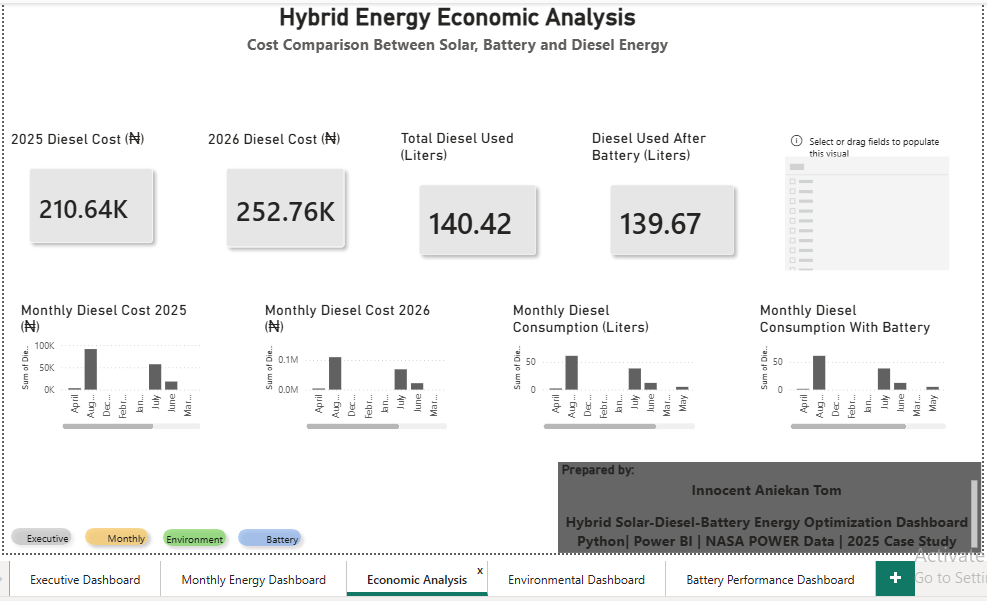

Layout of this report page (visuals, bound fields, positions):
{"tool":"powerbi","page":{"name":"Economic Analysis","canvas":[1280,720],"ordinal":2},"visuals":[{"type":"slicer","box":[1023,164.6,215,184.8],"z":0},{"type":"textbox","title":"Hybrid Energy Economic Analysis","box":[231.8,0,724,137.7],"z":1000},{"type":"cardVisual","title":"2025 Diesel Cost (₦)","fields":{"Data":["Sum(Hybrid_Energy_Results.Diesel_Cost_2025)"]},"box":[3.4,164.6,220.1,178.1],"z":2000},{"type":"cardVisual","title":"2026 Diesel Cost (₦)","fields":{"Data":["Sum(Hybrid_Energy_Results.Diesel_Cost_2026)"]},"box":[262,164.6,213.3,184.8],"z":3000},{"type":"cardVisual","title":"Total Diesel Used (Liters)","fields":{"Data":["Sum(Hybrid_Energy_Results.Diesel_Liters)"]},"box":[514,164.6,211.7,194.9],"z":4000},{"type":"cardVisual","title":"Diesel Used After Battery (Liters)","fields":{"Data":["Sum(Hybrid_Energy_Results.Diesel_Liters_Battery)"]},"box":[764.3,164.6,220.1,194.9],"z":5000},{"type":"clusteredColumnChart","title":"Monthly Diesel Cost 2025 (₦)","fields":{"Category":["Hybrid_Energy_Results.Month"],"Y":["Sum(Hybrid_Energy_Results.Diesel_Cost_2025)"]},"box":[16.8,389.7,245.2,173],"z":6000},{"type":"clusteredColumnChart","title":"Monthly Diesel Cost 2026 (₦)","fields":{"Category":["Hybrid_Energy_Results.Month"],"Y":["Sum(Hybrid_Energy_Results.Diesel_Cost_2026)"]},"box":[337.1,389.7,248.6,173],"z":7000},{"type":"clusteredColumnChart","title":"Monthly Diesel Consumption (Liters)","fields":{"Category":["Hybrid_Energy_Results.Month"],"Y":["Sum(Hybrid_Energy_Results.Diesel_Liters)"]},"box":[660.7,389.7,248.6,173],"z":8000},{"type":"clusteredColumnChart","title":"Monthly Diesel Consumption With Battery","fields":{"Category":["Hybrid_Energy_Results.Month"],"Y":["Sum(Hybrid_Energy_Results.Diesel_Liters_Battery)"]},"box":[984.4,389.7,253.6,173],"z":9000},{"type":"actionButton","box":[97.4,678.6,100.8,40.3],"z":10000},{"type":"actionButton","box":[0,678.6,97.4,40.3],"z":11000},{"type":"actionButton","box":[198.8,679.1,100.8,40.3],"z":12000},{"type":"actionButton","box":[297.3,679.1,100.8,40.3],"z":13000},{"type":"textbox","title":"Prepared by: ","box":[725.7,601.4,554.3,119.3],"z":14000}]}

Visuals, with their boxes on the page's 1280x720 design canvas (x1, y1, x2, y2). These are canvas units, not pixel positions in the 987x601 screenshot, which may show the page scaled, cropped or inside an application window:
slicer: pyautogui.locateOnScreen(1023, 165, 1238, 349)
"Hybrid Energy Economic Analysis" textbox: pyautogui.locateOnScreen(232, 0, 956, 138)
"2025 Diesel Cost (₦)" cardVisual: pyautogui.locateOnScreen(3, 165, 224, 343)
"2026 Diesel Cost (₦)" cardVisual: pyautogui.locateOnScreen(262, 165, 475, 349)
"Total Diesel Used (Liters)" cardVisual: pyautogui.locateOnScreen(514, 165, 726, 360)
"Diesel Used After Battery (Liters)" cardVisual: pyautogui.locateOnScreen(764, 165, 984, 360)
"Monthly Diesel Cost 2025 (₦)" clusteredColumnChart: pyautogui.locateOnScreen(17, 390, 262, 563)
"Monthly Diesel Cost 2026 (₦)" clusteredColumnChart: pyautogui.locateOnScreen(337, 390, 586, 563)
"Monthly Diesel Consumption (Liters)" clusteredColumnChart: pyautogui.locateOnScreen(661, 390, 909, 563)
"Monthly Diesel Consumption With Battery" clusteredColumnChart: pyautogui.locateOnScreen(984, 390, 1238, 563)
actionButton: pyautogui.locateOnScreen(97, 679, 198, 719)
actionButton: pyautogui.locateOnScreen(0, 679, 97, 719)
actionButton: pyautogui.locateOnScreen(199, 679, 300, 719)
actionButton: pyautogui.locateOnScreen(297, 679, 398, 719)
"Prepared by: " textbox: pyautogui.locateOnScreen(726, 601, 1280, 721)
